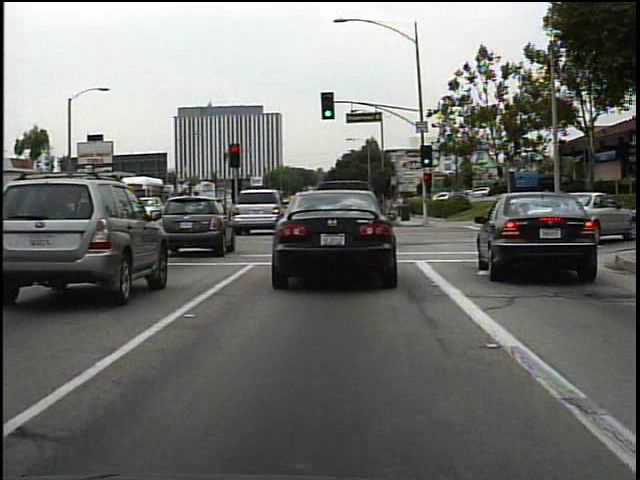person: (392, 190, 409, 221)
